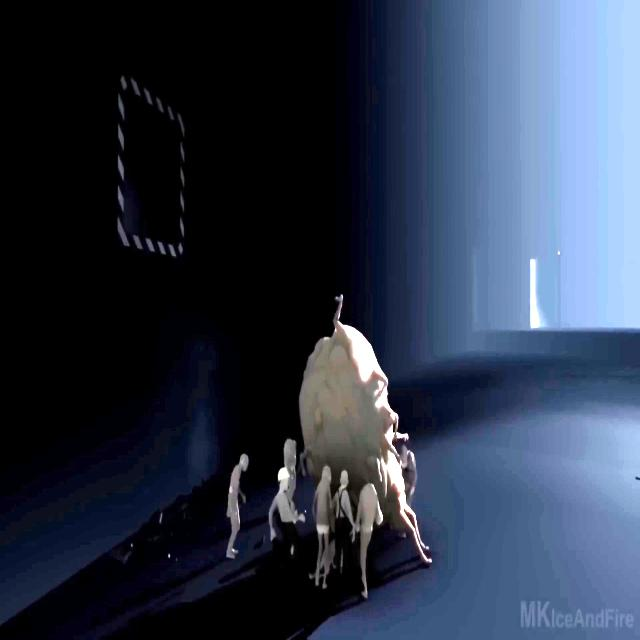blob: (298, 294, 409, 458)
zombie: (269, 468, 305, 600), (356, 474, 383, 597), (308, 466, 334, 588), (227, 453, 249, 560), (338, 470, 355, 591)
